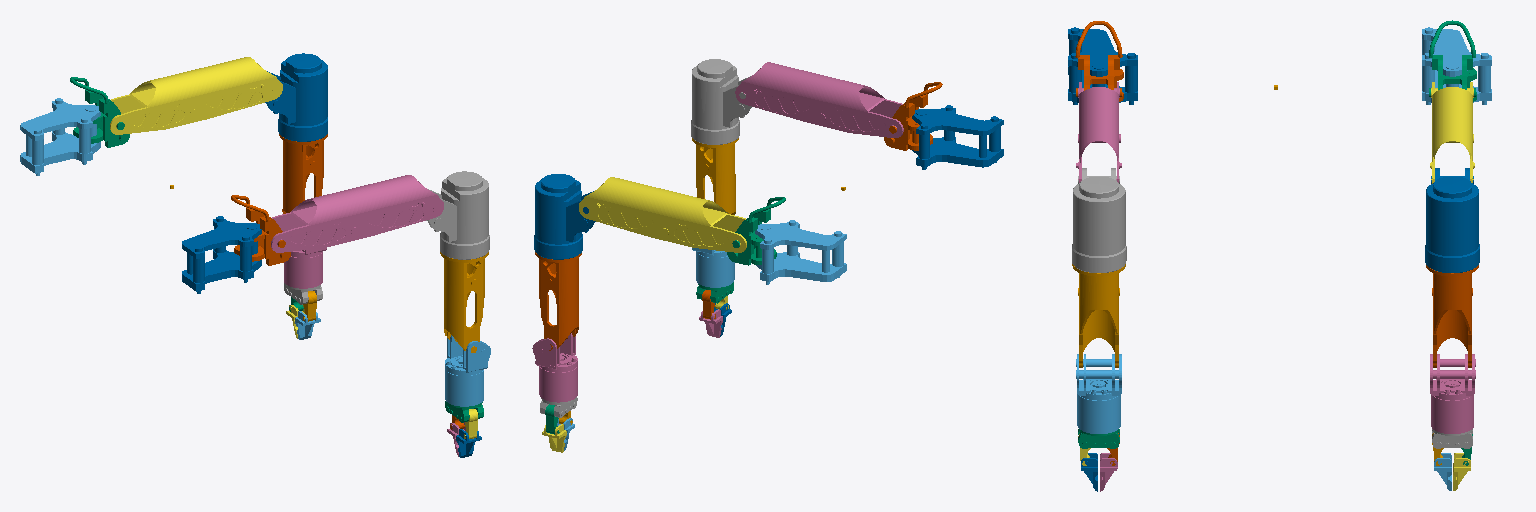
--- Render facts (derived) ---
3 views of the same robot in one strip: view 1: azimuth 30°, elevation 25°; view 2: azimuth 150°, elevation 25°; view 3: azimuth 270°, elevation 25° (orthographic).
Robot: oberon_dual — 23 links, 22 joints (20 revolute, 2 fixed); root link base; default pose: every joint at zero.
Links seen in each view (by area): view 1: upper_armR, upper_armL, elbow_linkL, elbow_linkR, baseL, baseR, forearmR, wrist_linkR, forearmL, shoulder_linkR, shoulder_linkL, wrist_linkL; view 2: upper_armR, upper_armL, elbow_linkL, elbow_linkR, baseL, baseR, forearmL, wrist_linkL, forearmR, shoulder_linkR, shoulder_linkL, wrist_linkR; view 3: elbow_linkL, elbow_linkR, wrist_linkR, wrist_linkL, forearmR, forearmL, baseL, baseR, upper_armL, upper_armR, shoulder_linkR, shoulder_linkL (+2 smaller).
Boxes of the visible links, x1,y1,x2,y2 form: upper_armR: (271, 175, 443, 252); upper_armL: (110, 57, 282, 134); elbow_linkL: (265, 53, 327, 141); elbow_linkR: (426, 171, 489, 259); baseL: (20, 98, 100, 175); baseR: (182, 216, 261, 293); forearmR: (440, 252, 488, 352); wrist_linkR: (445, 335, 490, 406); forearmL: (279, 134, 327, 213); shoulder_linkR: (231, 195, 290, 265); shoulder_linkL: (70, 77, 129, 147); wrist_linkL: (284, 247, 326, 288); upper_armR: (735, 62, 903, 137); upper_armL: (579, 177, 746, 252); elbow_linkL: (534, 174, 595, 259); elbow_linkR: (691, 59, 751, 144); baseL: (755, 220, 846, 284); baseR: (912, 105, 1003, 169); forearmL: (535, 252, 581, 350); wrist_linkL: (532, 333, 577, 402); forearmR: (692, 138, 738, 214); shoulder_linkR: (884, 82, 942, 150); shoulder_linkL: (727, 197, 785, 265); wrist_linkR: (692, 248, 734, 287); elbow_linkL: (1425, 168, 1479, 272); elbow_linkR: (1072, 168, 1126, 272); wrist_linkR: (1076, 354, 1121, 433); wrist_linkL: (1430, 354, 1475, 433); forearmR: (1072, 264, 1125, 367); forearmL: (1426, 265, 1478, 367); baseL: (1422, 27, 1491, 104); baseR: (1068, 27, 1137, 104); upper_armL: (1430, 82, 1474, 183); upper_armR: (1076, 82, 1121, 182); shoulder_linkR: (1075, 21, 1123, 101); shoulder_linkL: (1429, 20, 1476, 101).
Size in the robot's own frame: 1.09 by 1.2 by 1.08 metres.
22 mesh visuals loaded from 9 distinct referenced files (9 binary STL).

robot.urdf — oberon_dual:
<?xml version="1.0" encoding="utf-8"?>
<robot
  name="oberon_dual">

    <link name="base">
        <visual>
            <origin xyz="0 0 0" rpy="0 0 0"/>
            <geometry>
                <box size="0.01 0.01 0.01"/>
            </geometry>
        </visual>
        <collision>
            <origin xyz="0 0 0" rpy="0 0 0"/>
            <geometry>
                <box size="0.01 0.01 0.01"/>
            </geometry>
        </collision>
    </link>

    <link name="baseL">
        <inertial>
          <origin rpy="0 0 0" xyz="-0.101581 -0.001371 -0.009781"/>
          <mass value="9.67467717018"/>
          <inertia ixx="0.0511731678147" ixy="0.0" ixz="0.0" iyy="0.0836771724144" iyz="0.0" izz="0.0958032978152"/>
        </inertial>
        <visual>
            <origin xyz="0 0 0" rpy="0 0 0"/>
            <geometry>
                <mesh filename="package://rexrov_dual_oberon_description/meshes/Base.stl"/>
            </geometry>
        </visual>
        <collision>
            <origin xyz="0 0 0" rpy="0 0 0"/>
            <geometry>
                <mesh filename="package://rexrov_dual_oberon_description/meshes/Base.stl"/>
            </geometry>
        </collision>
    </link>

    <joint name="base_jointL" type="fixed">
        <origin xyz="0 0.5 0" rpy="0 0 0"/>
        <parent link="base"/>
        <child link="baseL"/>
    </joint>

    <link name="shoulder_linkL">
        <inertial>
          <origin rpy="0 0 0" xyz="0.039670 0.005441 0.017383"/>
          <mass value="6.72225246901"/>
          <inertia ixx="0.0425839738294" ixy="0.0" ixz="0.0" iyy="0.0513257548564" iyz="0.0" izz="0.0295765413777"/>
        </inertial>
        <visual>
            <origin xyz="0 0 0" rpy="0 0 0"/>
            <geometry>
                <mesh filename="package://rexrov_dual_oberon_description/meshes/ShoulderLink.stl"/>
            </geometry>
        </visual>
        <collision>
          <origin rpy="0 0 0" xyz="0.039670 0.005441 0.017383"/>
          <geometry>
            <cylinder length="0.239627" radius="0.068184"/>
          </geometry>
        </collision>
    </link>

    <joint name="azimuthL" type="revolute">
        <parent link="baseL"/>
        <child link="shoulder_linkL"/>
        <axis xyz="0 0 1"/>
        <limit effort="200" lower="-1.04719758" upper="1.04719758" velocity="0.17"/>
    </joint>

    <link name="upper_armL">
        <inertial>
          <origin rpy="0 0 0" xyz="0.312501 0.017478 -0.000002"/>
          <mass value="12.4443999072"/>
          <inertia ixx="0.0378234483246" ixy="0.0" ixz="0.0" iyy="0.411488180504" iyz="0.0" izz="0.415420854645"/>
        </inertial>
        <visual>
            <origin xyz="0 0 0" rpy="0 0 0"/>
            <geometry>
                <mesh filename="package://rexrov_dual_oberon_description/meshes/UpperArm.stl"/>
            </geometry>
        </visual>
        <collision>
          <origin rpy="0 1.57079632679 0" xyz="0.312501 0.017478 -0.000002"/>
          <geometry>
            <cylinder length="0.616809" radius="0.0709445"/>
          </geometry>
        </collision>
    </link>

    <joint name="shoulderL" type="revolute">
        <parent link="shoulder_linkL"/>
        <child link="upper_armL"/>
        <origin rpy="1.57079632679 0 0" xyz="0.06955 0.00015 0.01536"/>
        <axis xyz="0 0 1"/>
        <limit effort="5000" lower="-1.57079637" upper="1.57079637" velocity=".17"/>
    </joint>

    <link name="elbow_linkL">
        <inertial>
          <origin rpy="0 0 0" xyz="0.125269 -0.074675 0.0"/>
          <mass value="10.3145088675"/>
          <inertia ixx="0.0717197873733" ixy="0.0" ixz="0.0" iyy="0.0724090834438" iyz="0.0" izz="0.10276175034"/>
        </inertial>
        <visual>
            <origin xyz="0 0 0" rpy="0 0 0"/>
            <geometry>
                <mesh filename="package://rexrov_dual_oberon_description/meshes/ElbowLink.stl"/>
            </geometry>
        </visual>
        <collision>
          <origin rpy="0 1.57079632679 1.57079632679" xyz="0.125269 -0.074675 0.0"/>
          <geometry>
            <cylinder length="0.245312" radius="0.077562"/>
          </geometry>
        </collision>
    </link>

    <joint name="elbowL" type="revolute">
        <parent link="upper_armL"/>
        <child link="elbow_linkL"/>
        <origin xyz="0.55616 -0.01229 0" rpy="0 0 0"/>
        <axis xyz="0 0 1"/>
        <limit effort="300" lower="-1.57079637" upper="1.04719758" velocity=".13"/>
    </joint>

    <link name="forearmL">
        <inertial>
          <origin rpy="0 0 0" xyz="0 0 0.157978803149"/>
          <mass value="8.54626175585"/>
          <inertia ixx="0.0961794420773" ixy="0.0" ixz="0.0" iyy="0.0961902303084" iyz="0.0" izz="0.0326840256692"/>
        </inertial>
        <visual>
            <origin xyz="0 0 0" rpy="0 0 0"/>
            <geometry>
                <mesh filename="package://rexrov_dual_oberon_description/meshes/Forearm.stl"/>
            </geometry>
        </visual>
        <collision>
          <origin rpy="0 0 0" xyz="0 0 0.157978803149"/>
          <geometry>
            <cylinder length="0.334827" radius="0.0757275"/>
          </geometry>
        </collision>
    </link>

    <joint name="rollL" type="revolute">
        <parent link="elbow_linkL"/>
        <child link="forearmL"/>
        <origin rpy="1.57079632679 0 0" xyz="0.1349014 -0.1936267 0"/>
        <axis xyz="0 0 1"/>
        <limit effort="200" lower="-2.356194555" upper="2.356194555" velocity=".085"/>
    </joint>

    <link name="wrist_linkL">
        <inertial>
          <origin rpy="0 0 0" xyz="0.104016 0.003308 -0.000027"/>
          <mass value="3.9024235777"/>
          <inertia ixx="0.0104282209379" ixy="0.0" ixz="0.0" iyy="0.0211536636614" iyz="0.0" izz="0.020526721979"/>
        </inertial>
        <visual>
            <origin xyz="0 0 0" rpy="0 0 0"/>
            <geometry>
                <mesh filename="package://rexrov_dual_oberon_description/meshes/Wrist.stl"/>
            </geometry>
        </visual>
        <collision>
          <origin rpy="0 1.57079632679 0" xyz="0.104016 0.003308 -0.000027"/>
          <geometry>
            <cylinder length="0.219204" radius="0.065187"/>
          </geometry>
        </collision>
    </link>

    <joint name="pitchL" type="revolute">
        <parent link="forearmL"/>
        <child link="wrist_linkL"/>
        <origin rpy="-1.57079632679 -1.57079632679 0" xyz="0 0 0.31595760629823427"/>
        <axis xyz="0 0 1"/>
        <limit effort="200" lower="-1.57079637" upper="1.57079637" velocity=".26"/>
    </joint>

    <link name="end_effectorL">
        <inertial>
          <origin rpy="0 0 0" xyz="0.024426 -0.000000 -0.000014"/>
          <mass value="3.46114581082"/>
          <inertia ixx="0.00774521740658" ixy="0.0" ixz="0.0" iyy="0.00536142648454" iyz="0.0" izz="0.0055705568526"/>
        </inertial>
        <visual>
            <origin xyz="0 0 0" rpy="0 0 0"/>
            <geometry>
                <mesh filename="package://rexrov_dual_oberon_description/meshes/BaseGripper.stl"/>
            </geometry>
        </visual>
        <collision>
          <origin rpy="0 0 0" xyz="0.024426 -0.000000 -0.000014"/>
          <geometry>
            <box size="0.074326 0.117427 0.114298"/>
          </geometry>
        </collision>
    </link>

<!--     <joint name="wristL" type="revolute">
        <parent link="wrist_linkL"/>
        <child link="end_effectorL"/>
        <origin rpy="3.1415 0 0" xyz="0.19304 0 0"/>
        <axis xyz="1 0 0"/>
        <limit effort="30" lower="-6.28318530718" upper="6.28318530718" velocity="0.15"/>
    </joint> -->
    <joint name="wristL" type="revolute">
        <parent link="wrist_linkL"/>
        <child link="end_effectorL"/>
        <origin rpy="1.57079632679 0 0" xyz="0.19304 0 0"/>
        <axis xyz="1 0 0"/>
        <limit effort="30" lower="-6.28318530718" upper="6.28318530718" velocity="0.15"/>
    </joint>

    <link name="finger_leftL">
        <inertial>
          <origin rpy="0 0 0" xyz="0.025268 -0.001931 -0.000079"/>
          <mass value="0.879770511849"/>
          <inertia ixx="0.000378330605849" ixy="0.0" ixz="0.0" iyy="0.000886148330217" iyz="0.0" izz="0.00091923080428"/>
        </inertial>
        <visual>
            <origin xyz="0 0 0" rpy="0 0 0"/>
            <geometry>
                <mesh filename="package://rexrov_dual_oberon_description/meshes/Finger.stl"/>
            </geometry>
        </visual>
        <collision>
            <origin xyz="0 0 0" rpy="0 0 0"/>
            <geometry>
                <mesh filename="package://rexrov_dual_oberon_description/meshes/Finger.stl"/>
            </geometry>
        </collision>
    </link>

    <joint name="finger_left_jointL" type="revolute">
        <parent link="end_effectorL"/>
        <child link="finger_leftL"/>
        <origin xyz="0.0444267 0.0391376 0" rpy="0 0 0"/>
        <axis xyz="0 0 1"/>
        <limit effort="30" lower="0" upper="1.04709283144" velocity="0.15"/>
    </joint>

    <link name="finger_tip_leftL">
        <inertial>
          <origin rpy="0 0 0" xyz="0.027744 0.017278 0.0"/>
          <mass value="1.12550524054"/>
          <inertia ixx="0.000611047001819" ixy="0.0" ixz="0.0" iyy="0.00134903081039" iyz="0.0" izz="0.00121555609857"/>
        </inertial>
        <visual>
            <origin xyz="0 0 0" rpy="0 0 0"/>
            <geometry>
                <mesh filename="package://rexrov_dual_oberon_description/meshes/FingerTip.stl"/>
            </geometry>
        </visual>
        <collision>
            <origin xyz="0 0 0" rpy="0 0 0"/>
            <geometry>
                <mesh filename="package://rexrov_dual_oberon_description/meshes/FingerTip.stl"/>
            </geometry>
        </collision>
    </link>

    <joint name="finger_tip_left_jointL" type="revolute">
        <parent link="finger_leftL"/>
        <child link="finger_tip_leftL"/>
        <origin rpy="3.14159265359 0 0" xyz="0.06431 0 0"/>
        <axis xyz="0 0 1"/>
        <limit effort="0" lower="-3.1415" upper="3.1415" velocity="0"/>
    </joint>

    <link name="finger_rightL">
        <inertial>
          <origin rpy="0 0 0" xyz="0.025268 -0.001931 -0.000079"/>
          <mass value="0.879770511849"/>
          <inertia ixx="0.000378330605849" ixy="0.0" ixz="0.0" iyy="0.000886148330217" iyz="0.0" izz="0.00091923080428"/>
        </inertial>
        <visual>
            <origin rpy="3.14159265359 0 0" xyz="0 0 0"/>
            <geometry>
                <mesh filename="package://rexrov_dual_oberon_description/meshes/Finger.stl"/>
            </geometry>
        </visual>
        <collision>
            <origin rpy="3.14159265359 0 0" xyz="0 0 0"/>
            <geometry>
                <mesh filename="package://rexrov_dual_oberon_description/meshes/Finger.stl"/>
            </geometry>
        </collision>
    </link>

    <joint name="finger_right_jointL" type="revolute">
        <parent link="end_effectorL"/>
        <child link="finger_rightL"/>
        <origin rpy="3.14159265359 3.14159265359 3.14159265359" xyz="0.0444267 -0.0391376 0"/>
        <axis xyz="0 0 -1"/>
        <limit effort="30" lower="0" upper="1.04709283144" velocity="0.15"/>
    </joint>

    <link name="finger_tip_rightL">
        <inertial>
          <origin rpy="0 0 0" xyz="0.027744 0.017278 0.0"/>
          <mass value="1.12550524054"/>
          <inertia ixx="0.000611047001819" ixy="0.0" ixz="0.0" iyy="0.00134903081039" iyz="0.0" izz="0.00121555609857"/>
        </inertial>
        <visual>
            <origin xyz="0 0 0" rpy="0 0 0"/>
            <geometry>
                <mesh filename="package://rexrov_dual_oberon_description/meshes/FingerTip.stl"/>
            </geometry>
        </visual>
        <collision>
            <origin xyz="0 0 0" rpy="0 0 0"/>
            <geometry>
                <mesh filename="package://rexrov_dual_oberon_description/meshes/FingerTip.stl"/>
            </geometry>
        </collision>
    </link>

    <joint name="finger_tip_right_jointL" type="revolute">
        <parent link="finger_rightL"/>
        <child link="finger_tip_rightL"/>
        <origin xyz="0.06431 0 0" rpy="0 0 0"/>
        <axis xyz="0 0 1"/>
        <limit effort="0" lower="-3.1415" upper="3.1415" velocity="0"/>
    </joint>
















    <link name="baseR">
        <inertial>
          <origin rpy="0 0 0" xyz="-0.101581 -0.001371 -0.009781"/>
          <mass value="9.67467717018"/>
          <inertia ixx="0.0511731678147" ixy="0.0" ixz="0.0" iyy="0.0836771724144" iyz="0.0" izz="0.0958032978152"/>
        </inertial>
        <visual>
            <origin xyz="0 0 0" rpy="0 0 0"/>
            <geometry>
                <mesh filename="package://rexrov_dual_oberon_description/meshes/Base.stl"/>
            </geometry>
        </visual>
        <collision>
            <origin xyz="0 0 0" rpy="0 0 0"/>
            <geometry>
                <mesh filename="package://rexrov_dual_oberon_description/meshes/Base.stl"/>
            </geometry>
        </collision>
    </link>

    <joint name="base_jointR" type="fixed">
        <origin xyz="0 -0.5 0" rpy="0 0 0"/>
        <parent link="base"/>
        <child link="baseR"/>
    </joint>

    <link name="shoulder_linkR">
        <inertial>
          <origin rpy="0 0 0" xyz="0.039670 0.005441 0.017383"/>
          <mass value="6.72225246901"/>
          <inertia ixx="0.0425839738294" ixy="0.0" ixz="0.0" iyy="0.0513257548564" iyz="0.0" izz="0.0295765413777"/>
        </inertial>

        <visual>
            <origin xyz="0 0 0" rpy="0 0 0"/>
            <geometry>
                <mesh filename="package://rexrov_dual_oberon_description/meshes/ShoulderLink.stl"/>
            </geometry>
        </visual>

        <collision>
          <origin rpy="0 0 0" xyz="0.039670 0.005441 0.017383"/>
          <geometry>
            <cylinder length="0.239627" radius="0.068184"/>
          </geometry>
        </collision>
    </link>

    <joint name="azimuthR" type="revolute">
        <parent link="baseR"/>
        <child link="shoulder_linkR"/>
        <axis xyz="0 0 1"/>
        <limit effort="200" lower="-1.04719758" upper="1.04719758" velocity="0.17"/>
    </joint>


    <link name="upper_armR">
        <inertial>
          <origin rpy="0 0 0" xyz="0.312501 0.017478 -0.000002"/>
          <mass value="12.4443999072"/>
          <inertia ixx="0.0378234483246" ixy="0.0" ixz="0.0" iyy="0.411488180504" iyz="0.0" izz="0.415420854645"/>
        </inertial>

        <visual>
            <origin xyz="0 0 0" rpy="0 0 0"/>
            <geometry>
                <mesh filename="package://rexrov_dual_oberon_description/meshes/UpperArm.stl"/>
            </geometry>
        </visual>

        <collision>
          <origin rpy="0 1.57079632679 0" xyz="0.312501 0.017478 -0.000002"/>
          <geometry>
            <cylinder length="0.616809" radius="0.0709445"/>
          </geometry>
        </collision>
    </link>

    <joint name="shoulderR" type="revolute">
        <parent link="shoulder_linkR"/>
        <child link="upper_armR"/>
        <origin rpy="1.57079632679 0 0" xyz="0.06955 0.00015 0.01536"/>
        <axis xyz="0 0 1"/>
        <limit effort="5000" lower="-1.57079637" upper="1.57079637" velocity=".17"/>
    </joint>

    <link name="elbow_linkR">
        <inertial>
          <origin rpy="0 0 0" xyz="0.125269 -0.074675 0.0"/>
          <mass value="10.3145088675"/>
          <inertia ixx="0.0717197873733" ixy="0.0" ixz="0.0" iyy="0.0724090834438" iyz="0.0" izz="0.10276175034"/>
        </inertial>

        <visual>
            <origin xyz="0 0 0" rpy="0 0 0"/>
            <geometry>
                <mesh filename="package://rexrov_dual_oberon_description/meshes/ElbowLink.stl"/>
            </geometry>
        </visual>

        <collision>
          <origin rpy="0 1.57079632679 1.57079632679" xyz="0.125269 -0.074675 0.0"/>
          <geometry>
            <cylinder length="0.245312" radius="0.077562"/>
          </geometry>
        </collision>
    </link>

    <joint name="elbowR" type="revolute">
        <parent link="upper_armR"/>
        <child link="elbow_linkR"/>
        <origin xyz="0.55616 -0.01229 0" rpy="0 0 0"/>
        <axis xyz="0 0 1"/>
        <limit effort="300" lower="-1.57079637" upper="1.04719758" velocity=".13"/>
    </joint>

    <link name="forearmR">
        <inertial>
          <origin rpy="0 0 0" xyz="0 0 0.157978803149"/>
          <mass value="8.54626175585"/>
          <inertia ixx="0.0961794420773" ixy="0.0" ixz="0.0" iyy="0.0961902303084" iyz="0.0" izz="0.0326840256692"/>
        </inertial>

        <visual>
            <origin xyz="0 0 0" rpy="0 0 0"/>
            <geometry>
                <mesh filename="package://rexrov_dual_oberon_description/meshes/Forearm.stl"/>
            </geometry>
        </visual>

        <collision>
          <origin rpy="0 0 0" xyz="0 0 0.157978803149"/>
          <geometry>
            <cylinder length="0.334827" radius="0.0757275"/>
          </geometry>
        </collision>
    </link>

    <joint name="rollR" type="revolute">
        <parent link="elbow_linkR"/>
        <child link="forearmR"/>
        <origin rpy="1.57079632679 0 0" xyz="0.1349014 -0.1936267 0"/>
        <axis xyz="0 0 1"/>
        <limit effort="200" lower="-2.356194555" upper="2.356194555" velocity=".085"/>
    </joint>

    <link name="wrist_linkR">
        <inertial>
          <origin rpy="0 0 0" xyz="0.104016 0.003308 -0.000027"/>
          <mass value="3.9024235777"/>
          <inertia ixx="0.0104282209379" ixy="0.0" ixz="0.0" iyy="0.0211536636614" iyz="0.0" izz="0.020526721979"/>
        </inertial>

        <visual>
            <origin xyz="0 0 0" rpy="0 0 0"/>
            <geometry>
                <mesh filename="package://rexrov_dual_oberon_description/meshes/Wrist.stl"/>
            </geometry>
        </visual>

        <collision>
          <origin rpy="0 1.57079632679 0" xyz="0.104016 0.003308 -0.000027"/>
          <geometry>
            <cylinder length="0.219204" radius="0.065187"/>
          </geometry>
        </collision>
    </link>

    <joint name="pitchR" type="revolute">
        <parent link="forearmR"/>
        <child link="wrist_linkR"/>
        <origin rpy="-1.57079632679 -1.57079632679 0" xyz="0 0 0.31595760629823427"/>
        <axis xyz="0 0 1"/>
        <limit effort="200" lower="-1.57079637" upper="1.57079637" velocity=".26"/>
    </joint>

    <link name="end_effectorR">
        <inertial>
          <origin rpy="0 0 0" xyz="0.024426 -0.000000 -0.000014"/>
          <mass value="3.46114581082"/>
          <inertia ixx="0.00774521740658" ixy="0.0" ixz="0.0" iyy="0.00536142648454" iyz="0.0" izz="0.0055705568526"/>
        </inertial>

        <visual>
            <origin xyz="0 0 0" rpy="0 0 0"/>
            <geometry>
                <mesh filename="package://rexrov_dual_oberon_description/meshes/BaseGripper.stl"/>
            </geometry>
        </visual>

        <collision>
          <origin rpy="0 0 0" xyz="0.024426 -0.000000 -0.000014"/>
          <geometry>
            <box size="0.074326 0.117427 0.114298"/>
          </geometry>
        </collision>
    </link>

<!--     <joint name="wristR" type="revolute">
        <parent link="wrist_linkR"/>
        <child link="end_effectorR"/>
        <origin rpy="3.1415 0 0" xyz="0.19304 0 0"/>
        <axis xyz="1 0 0"/>
        <limit effort="30" lower="-6.28318530718" upper="6.28318530718" velocity="0.15"/>
    </joint> -->
    <joint name="wristR" type="revolute">
        <parent link="wrist_linkR"/>
        <child link="end_effectorR"/>
        <origin rpy="1.57079632679 0 0" xyz="0.19304 0 0"/>
        <axis xyz="1 0 0"/>
        <limit effort="30" lower="-6.28318530718" upper="6.28318530718" velocity="0.15"/>
    </joint>

    <link name="finger_leftR">
        <inertial>
          <origin rpy="0 0 0" xyz="0.025268 -0.001931 -0.000079"/>
          <mass value="0.879770511849"/>
          <inertia ixx="0.000378330605849" ixy="0.0" ixz="0.0" iyy="0.000886148330217" iyz="0.0" izz="0.00091923080428"/>
        </inertial>

        <visual>
            <origin xyz="0 0 0" rpy="0 0 0"/>
            <geometry>
                <mesh filename="package://rexrov_dual_oberon_description/meshes/Finger.stl"/>
            </geometry>
        </visual>

        <collision>
            <origin xyz="0 0 0" rpy="0 0 0"/>
            <geometry>
                <mesh filename="package://rexrov_dual_oberon_description/meshes/Finger.stl"/>
            </geometry>
        </collision>
    </link>

    <joint name="finger_left_jointR" type="revolute">
        <parent link="end_effectorR"/>
        <child link="finger_leftR"/>
        <origin xyz="0.0444267 0.0391376 0" rpy="0 0 0"/>
        <axis xyz="0 0 1"/>
        <limit effort="30" lower="0" upper="1.04709283144" velocity="0.15"/>
    </joint>

    <link name="finger_tip_leftR">
        <inertial>
          <origin rpy="0 0 0" xyz="0.027744 0.017278 0.0"/>
          <mass value="1.12550524054"/>
          <inertia ixx="0.000611047001819" ixy="0.0" ixz="0.0" iyy="0.00134903081039" iyz="0.0" izz="0.00121555609857"/>
        </inertial>

        <visual>
            <origin xyz="0 0 0" rpy="0 0 0"/>
            <geometry>
                <mesh filename="package://rexrov_dual_oberon_description/meshes/FingerTip.stl"/>
            </geometry>
        </visual>

        <collision>
            <origin xyz="0 0 0" rpy="0 0 0"/>
            <geometry>
                <mesh filename="package://rexrov_dual_oberon_description/meshes/FingerTip.stl"/>
            </geometry>
        </collision>
    </link>

    <joint name="finger_tip_left_jointR" type="revolute">
        <parent link="finger_leftR"/>
        <child link="finger_tip_leftR"/>
        <origin rpy="3.14159265359 0 0" xyz="0.06431 0 0"/>
        <axis xyz="0 0 1"/>
        <limit effort="0" lower="-3.1415" upper="3.1415" velocity="0"/>
    </joint>

    <link name="finger_rightR">
        <inertial>
          <origin rpy="0 0 0" xyz="0.025268 -0.001931 -0.000079"/>
          <mass value="0.879770511849"/>
          <inertia ixx="0.000378330605849" ixy="0.0" ixz="0.0" iyy="0.000886148330217" iyz="0.0" izz="0.00091923080428"/>
        </inertial>

        <visual>
            <origin rpy="3.14159265359 0 0" xyz="0 0 0"/>
            <geometry>
                <mesh filename="package://rexrov_dual_oberon_description/meshes/Finger.stl"/>
            </geometry>
        </visual>

        <collision>
            <origin rpy="3.14159265359 0 0" xyz="0 0 0"/>
            <geometry>
                <mesh filename="package://rexrov_dual_oberon_description/meshes/Finger.stl"/>
            </geometry>
        </collision>
    </link>

    <joint name="finger_right_jointR" type="revolute">
        <parent link="end_effectorR"/>
        <child link="finger_rightR"/>
        <origin rpy="3.14159265359 3.14159265359 3.14159265359" xyz="0.0444267 -0.0391376 0"/>
        <axis xyz="0 0 -1"/>
        <limit effort="30" lower="0" upper="1.04709283144" velocity="0.15"/>
    </joint>

    <link name="finger_tip_rightR">
        <inertial>
          <origin rpy="0 0 0" xyz="0.027744 0.017278 0.0"/>
          <mass value="1.12550524054"/>
          <inertia ixx="0.000611047001819" ixy="0.0" ixz="0.0" iyy="0.00134903081039" iyz="0.0" izz="0.00121555609857"/>
        </inertial>

        <visual>
            <origin xyz="0 0 0" rpy="0 0 0"/>
            <geometry>
                <mesh filename="package://rexrov_dual_oberon_description/meshes/FingerTip.stl"/>
            </geometry>
        </visual>

        <collision>
            <origin xyz="0 0 0" rpy="0 0 0"/>
            <geometry>
                <mesh filename="package://rexrov_dual_oberon_description/meshes/FingerTip.stl"/>
            </geometry>
        </collision>
    </link>

    <joint name="finger_tip_right_jointR" type="revolute">
        <parent link="finger_rightR"/>
        <child link="finger_tip_rightR"/>
        <origin xyz="0.06431 0 0" rpy="0 0 0"/>
        <axis xyz="0 0 1"/>
        <limit effort="0" lower="-3.1415" upper="3.1415" velocity="0"/>
    </joint>
</robot>
